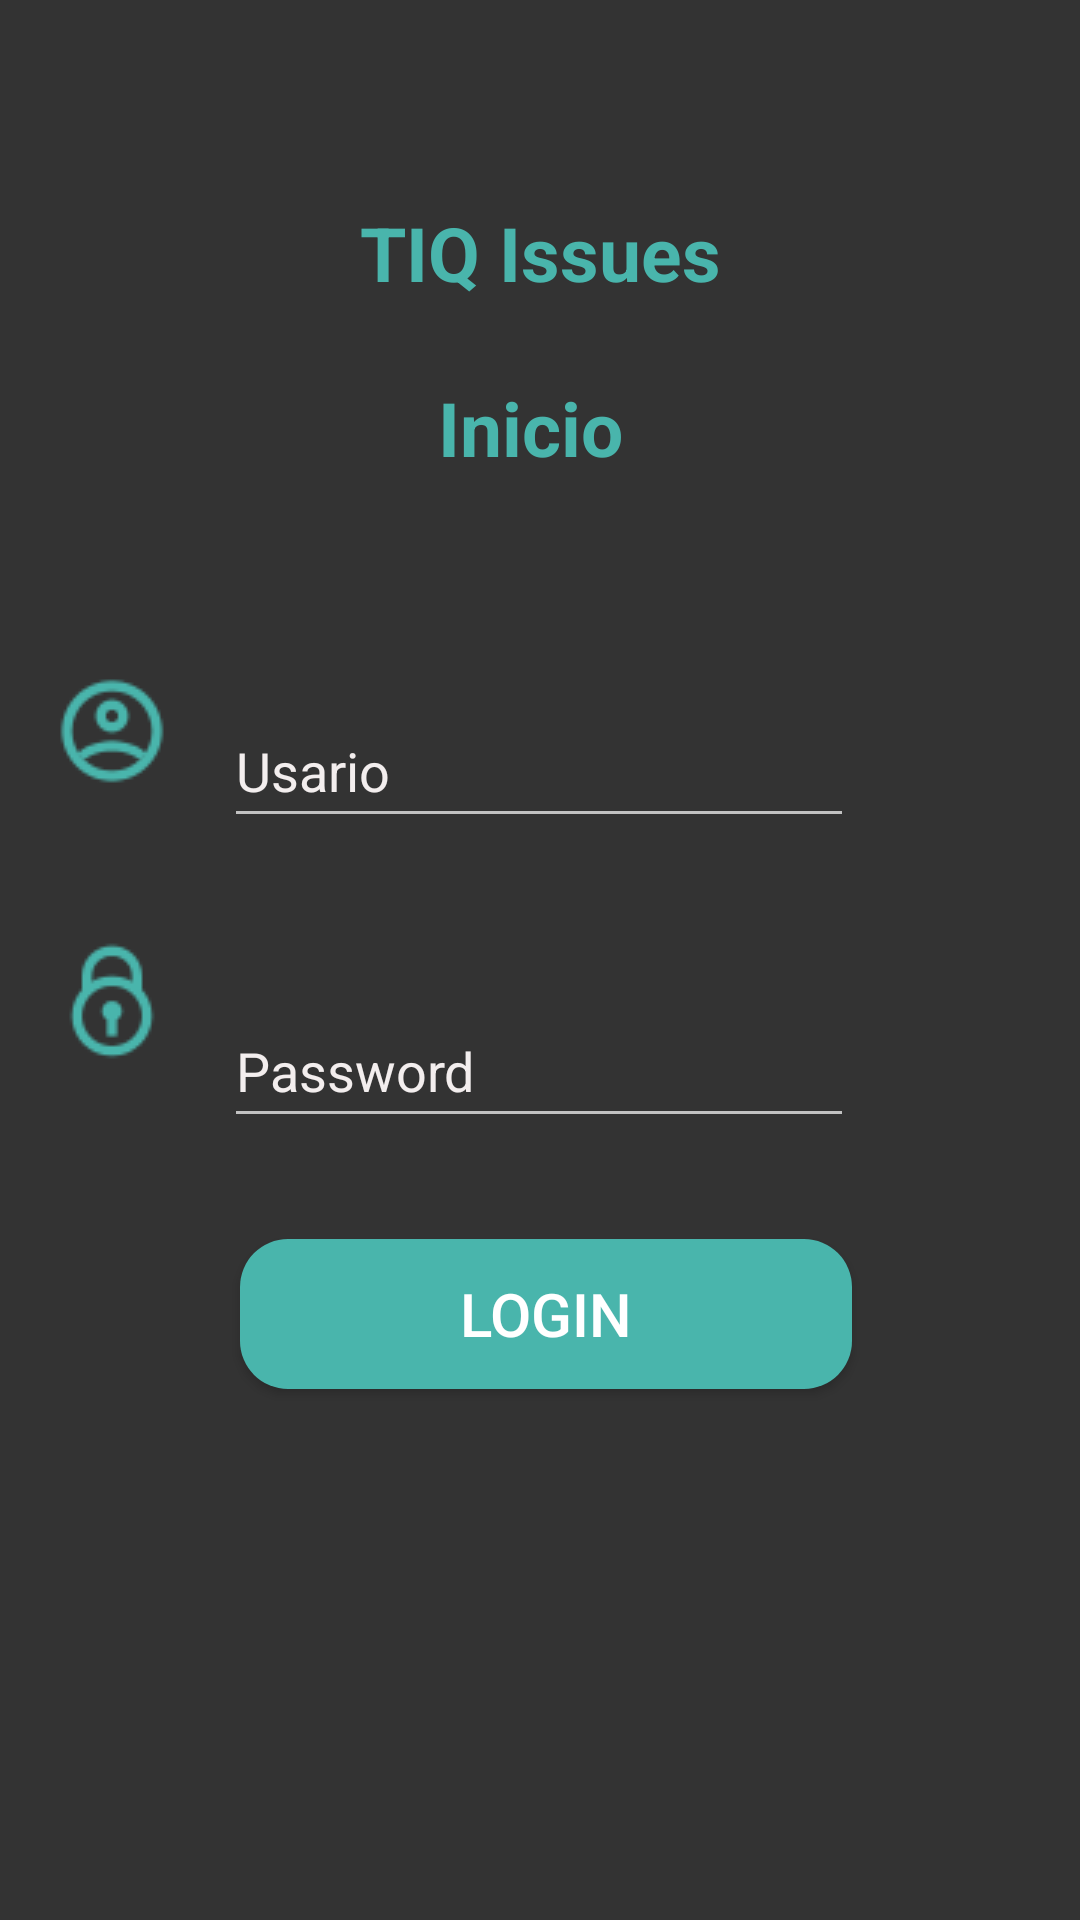

Screen size 1080 × 1920. Icon name, then its box in pixels as [x1, y1, x2, y2]:
lock: [70, 944, 153, 1057]
